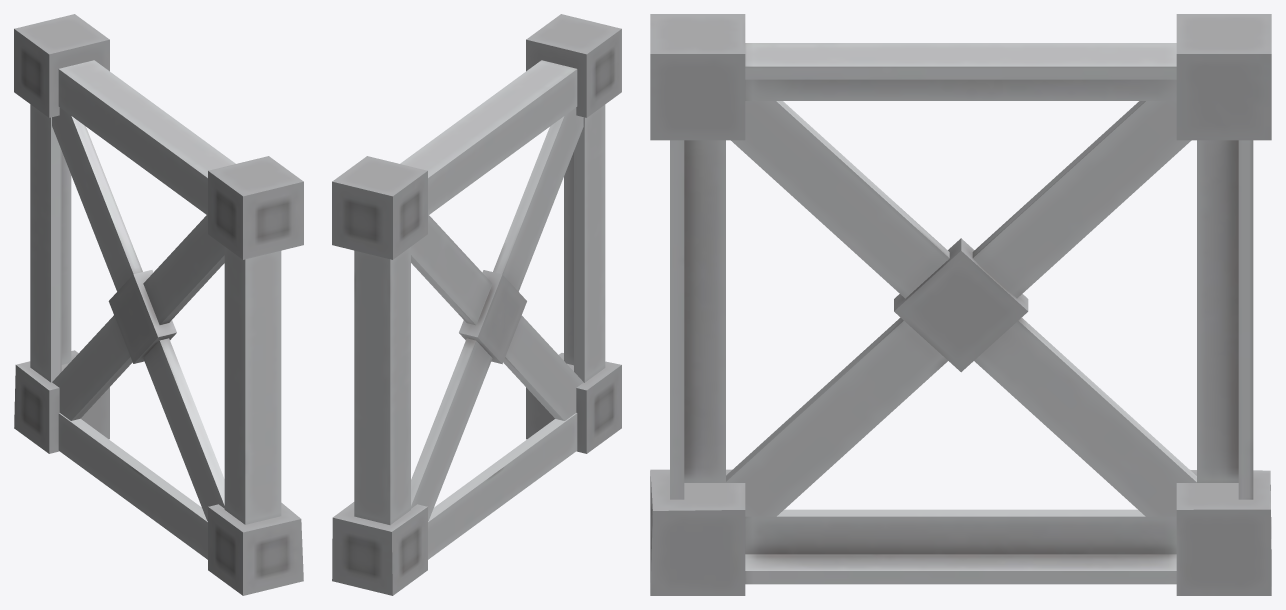
Rendered from Pfb_SteelFrame__3.fbx.
3 views of the same model, side by side, from view 1: azimuth 30°, elevation 25°; view 2: azimuth 150°, elevation 25°; view 3: azimuth 270°, elevation 25° (orthographic). The views are drawn at different scales.
Visible parts, largest first — view 1: Mat_SteelFrame_01; view 2: Mat_SteelFrame_01; view 3: Mat_SteelFrame_01.
Part boxes in pixels (left/top/right/bottom): Mat_SteelFrame_01: left=14, top=14, right=303, bottom=595; Mat_SteelFrame_01: left=332, top=14, right=621, bottom=595; Mat_SteelFrame_01: left=650, top=14, right=1271, bottom=595.
Bounding box in the file's own units: 0.3 × 1.89 × 1.96.
1 material, 1 textured.
